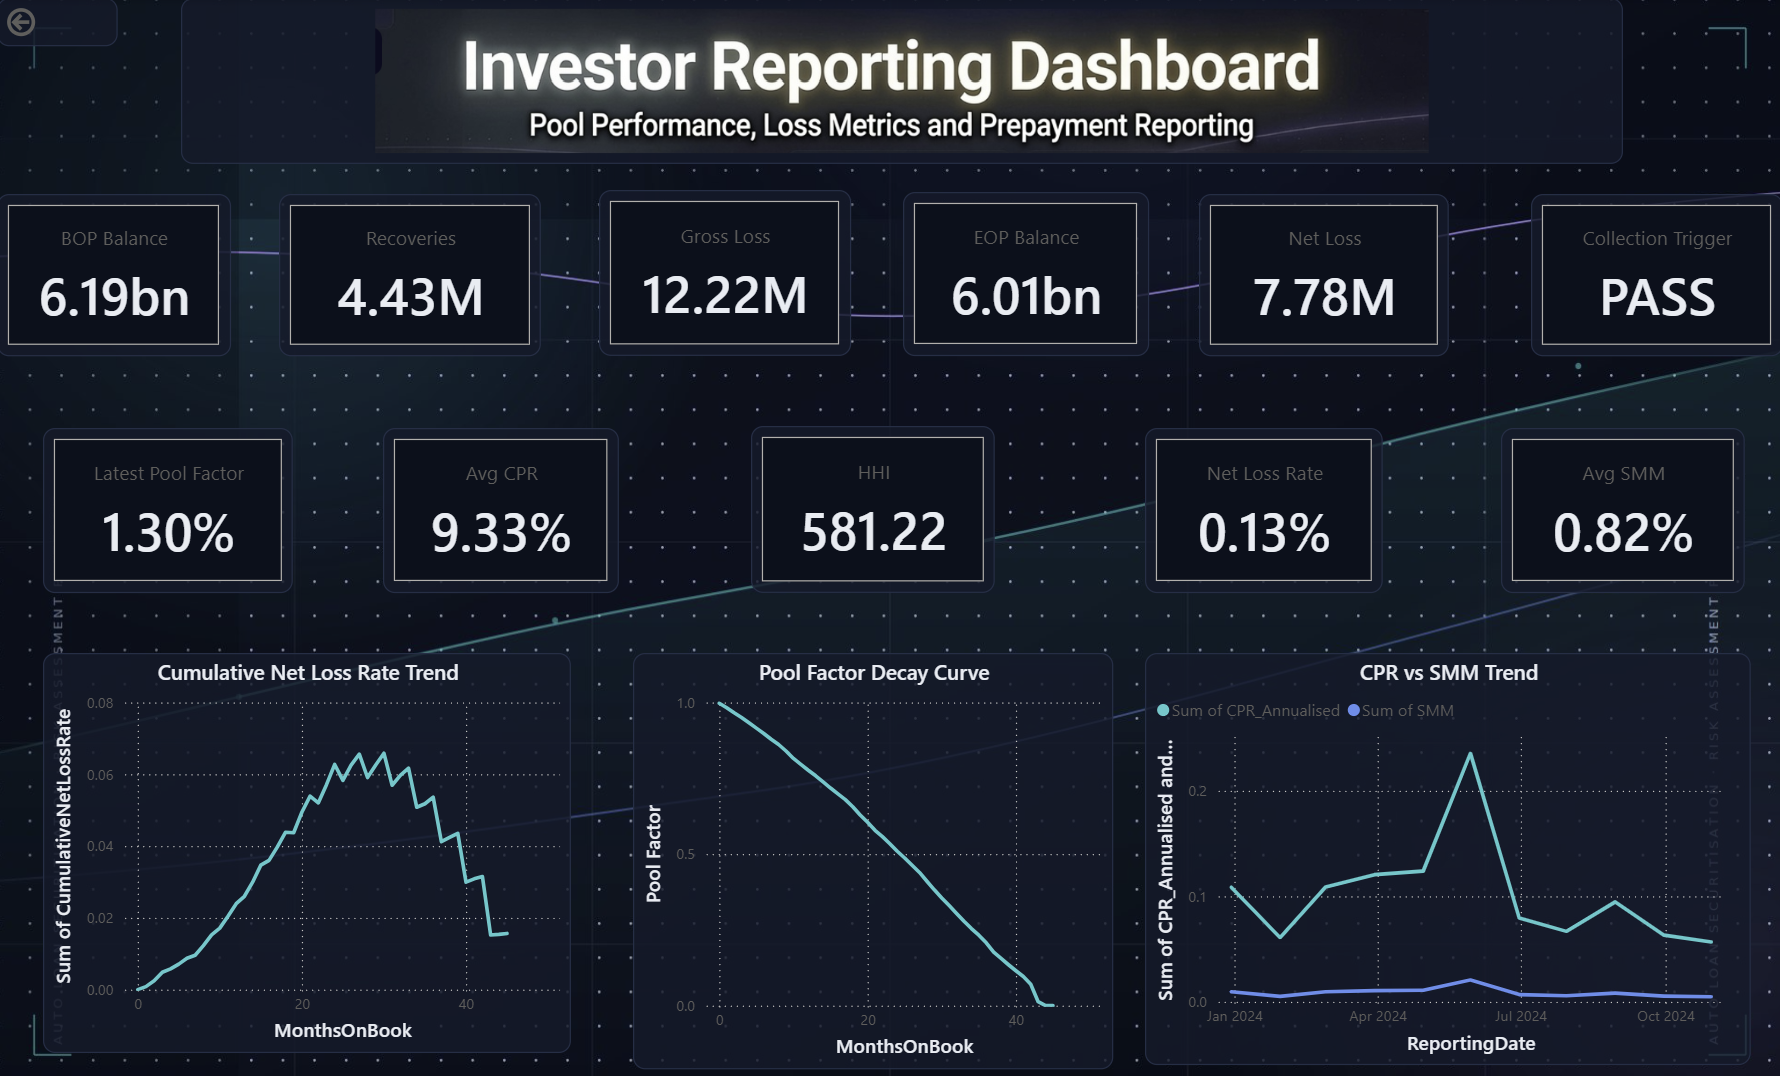

The dashboard page shown, as its layout file describes it:
{"tool":"powerbi","page":{"name":"Page 7","canvas":[1480,900],"ordinal":6},"visuals":[{"type":"cardVisual","fields":{"Data":["dynamic_loss_monthly.BOP Balance"]},"box":[0,162.4,193.9,134.3],"z":0},{"type":"cardVisual","fields":{"Data":["dynamic_loss_monthly.EOP Balance"]},"box":[750.8,160.8,203.9,135.9],"z":1000},{"type":"cardVisual","fields":{"Data":["static_pool_vintage_data.Latest Pool Factor"]},"box":[38.1,356.4,207.2,135.9],"z":2000},{"type":"cardVisual","fields":{"Data":["dynamic_loss_monthly.Gross Loss"]},"box":[498.9,159.1,208.8,137.6],"z":3000},{"type":"cardVisual","fields":{"Data":["DateTable.Net Loss"]},"box":[996.1,162.4,207.2,134.3],"z":4000},{"type":"cardVisual","fields":{"Data":["DateTable.Recoveries"]},"box":[233.7,162.4,217.1,134.3],"z":5000},{"type":"cardVisual","fields":{"Data":["dynamic_loss_monthly.Avg SMM"]},"box":[1246.4,356.4,202.2,135.9],"z":6000},{"type":"cardVisual","fields":{"Data":["dynamic_loss_monthly.Avg CPR"]},"box":[319.9,356.4,195.6,135.9],"z":7000},{"type":"lineChart","title":"Pool Factor Decay Curve","fields":{"Y":["static_pool_vintage_data.Pool Factor"],"Category":["static_pool_vintage_data.MonthsOnBook"]},"box":[527.1,542,397.8,344.8],"z":8000},{"type":"lineChart","title":"Cumulative Net Loss Rate Trend","fields":{"Y":["Sum(static_pool_vintage_data.CumulativeNetLossRate)"],"Category":["static_pool_vintage_data.MonthsOnBook"]},"box":[38.1,542,437.6,331.5],"z":9000},{"type":"lineChart","title":"CPR vs SMM Trend","fields":{"Category":["dynamic_loss_monthly.ReportingDate.Variation.Date Hierarchy.Year"],"Y":["Sum(dynamic_loss_monthly.CPR_Annualised)","Sum(dynamic_loss_monthly.SMM)"]},"box":[951.4,542,502.2,341.4],"z":10000},{"type":"image","box":[152.5,0,1195,137.6],"z":11000},{"type":"actionButton","box":[0,0,100,40],"z":12000},{"type":"cardVisual","fields":{"Data":["DateTable.Collection Trigger"]},"box":[1271.3,162.4,208.8,134.3],"z":12001},{"type":"cardVisual","fields":{"Data":["DateTable.HHI"]},"box":[624.9,354.7,202.2,137.6],"z":12002},{"type":"cardVisual","fields":{"Data":["static_pool_vintage_data.Net Loss Rate"]},"box":[951.4,356.4,197.2,135.9],"z":12003}]}

Visuals, with their boxes in screenshot pixels (x1, y1, x2, y2), scaled from the page's 1480x900 canvas onto the 1780x1076 screenshot:
cardVisual - dynamic_loss_monthly.BOP Balance: 0:194:233:355
cardVisual - dynamic_loss_monthly.EOP Balance: 903:192:1148:355
cardVisual - static_pool_vintage_data.Latest Pool Factor: 46:426:295:589
cardVisual - dynamic_loss_monthly.Gross Loss: 600:190:851:355
cardVisual - DateTable.Net Loss: 1198:194:1447:355
cardVisual - DateTable.Recoveries: 281:194:542:355
cardVisual - dynamic_loss_monthly.Avg SMM: 1499:426:1742:589
cardVisual - dynamic_loss_monthly.Avg CPR: 385:426:620:589
"Pool Factor Decay Curve" lineChart: 634:648:1112:1060
"Cumulative Net Loss Rate Trend" lineChart: 46:648:572:1044
"CPR vs SMM Trend" lineChart: 1144:648:1748:1056
image: 183:0:1621:165
actionButton: 0:0:120:48
cardVisual - DateTable.Collection Trigger: 1529:194:1779:355
cardVisual - DateTable.HHI: 752:424:995:589
cardVisual - static_pool_vintage_data.Net Loss Rate: 1144:426:1381:589
